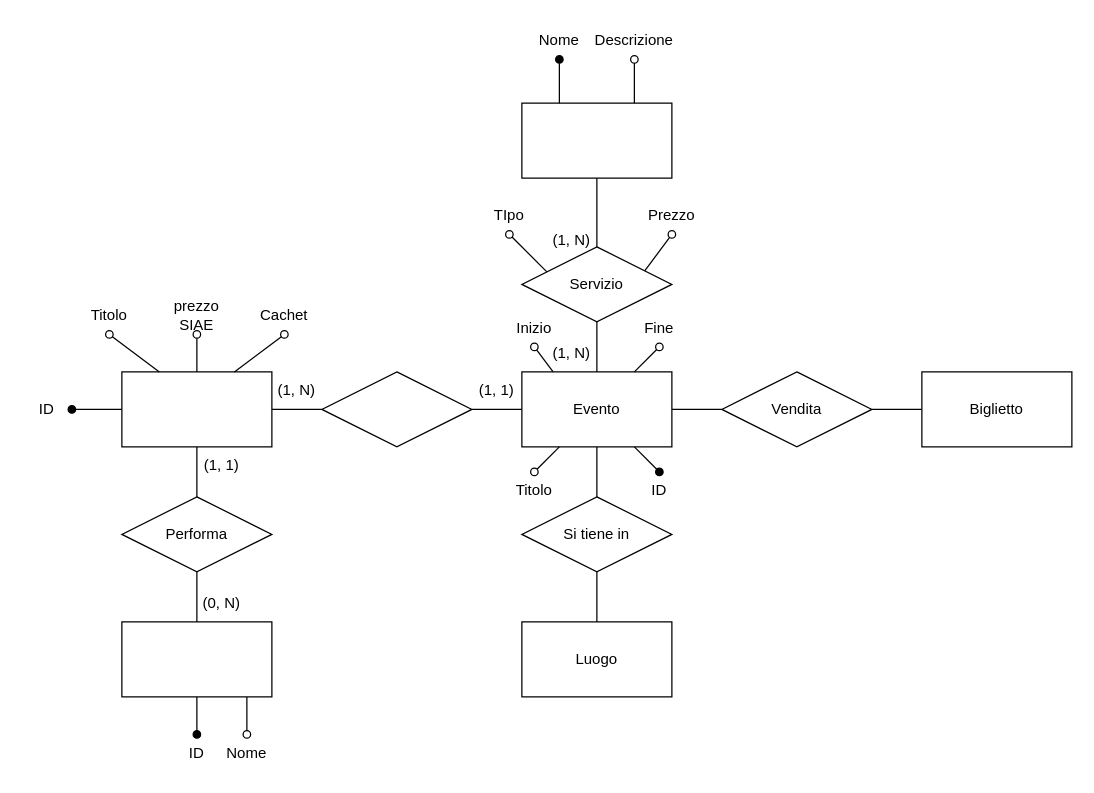
This 1094x793 diagram has some shape labels left out. Each missing label, with the centre of its shape:
"Artista" goes at point 196,659.
"Composto da" goes at point 396,409.
"Fornitore" goes at point 596,140.
"Spettacolo" goes at point 196,409.
